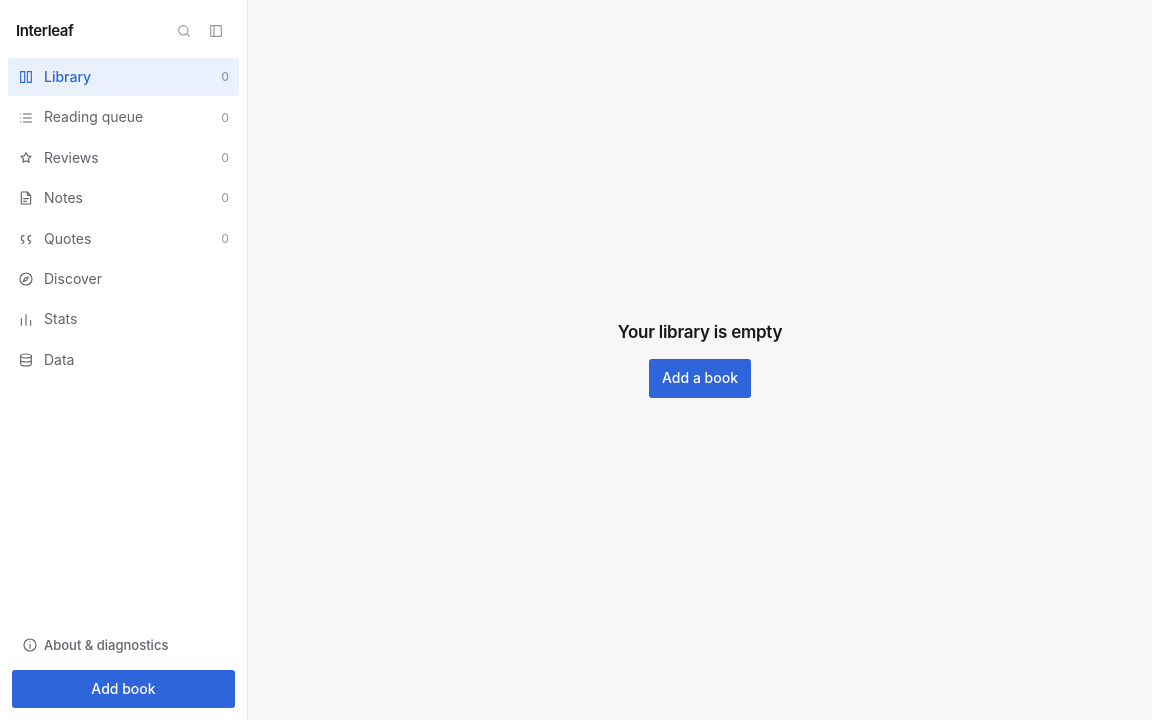
Test: Sidebar › opens Stats from the sidebar
What coordinates should you click on to do the following:
click the button "Stats"
I would click on:
 (124, 320)
Its box is [8,300,239,339].
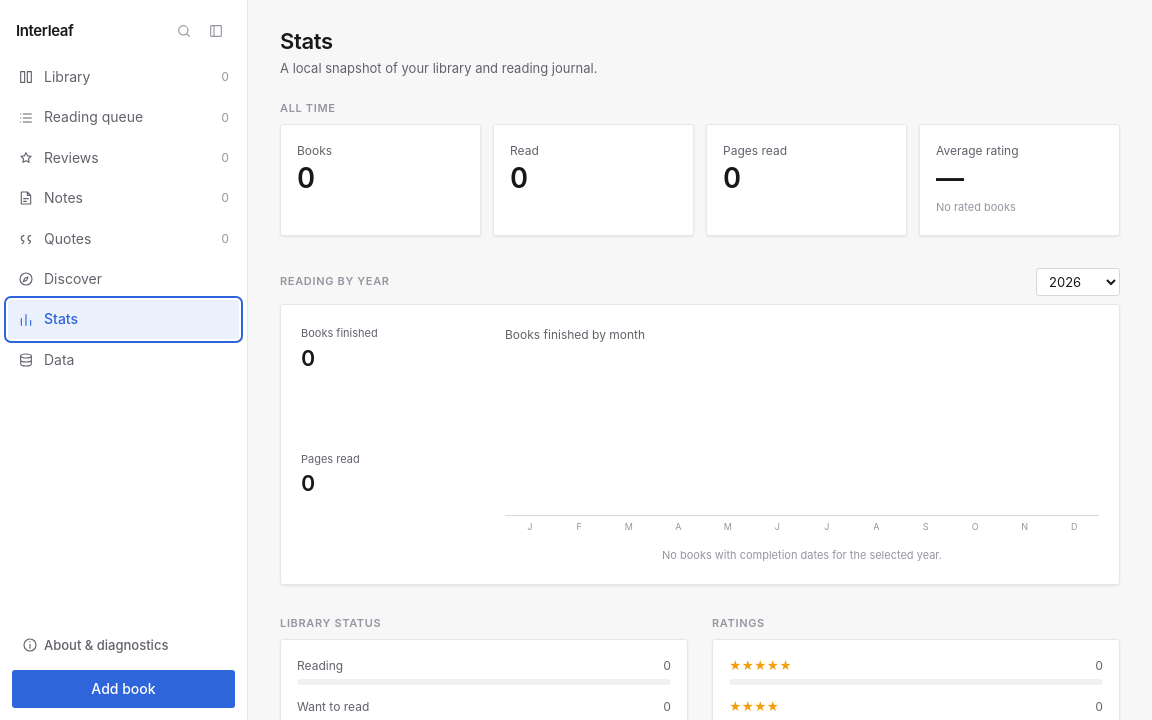
Expected: the heading "Stats" is shown, [280,28,333,54]
